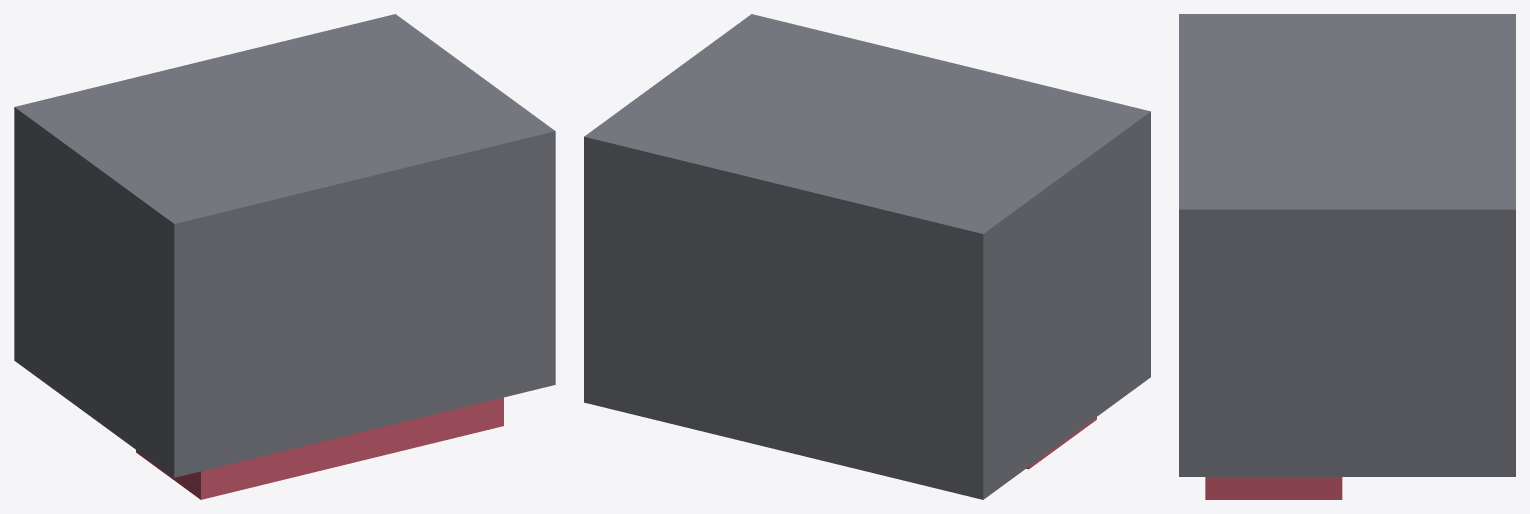
Rendered from battery_v02.glb.
3 renders of one model, left to right at view 1: azimuth 30°, elevation 25°; view 2: azimuth 150°, elevation 25°; view 3: azimuth 270°, elevation 25°, orthographic. The views are drawn at different scales.
Parts seen in each view (by area): view 1: box_0, box_1; view 2: box_0; view 3: box_0, box_1.
Boxes of the visible parts, x1=… form: box_0: x1=14, y1=14, x2=555, y2=477; box_1: x1=136, y1=397, x2=503, y2=499; box_0: x1=584, y1=14, x2=1150, y2=499; box_0: x1=1179, y1=14, x2=1515, y2=476; box_1: x1=1205, y1=477, x2=1342, y2=499.
Bounding box in the file's own units: 0.44 × 0.325 × 0.32.
